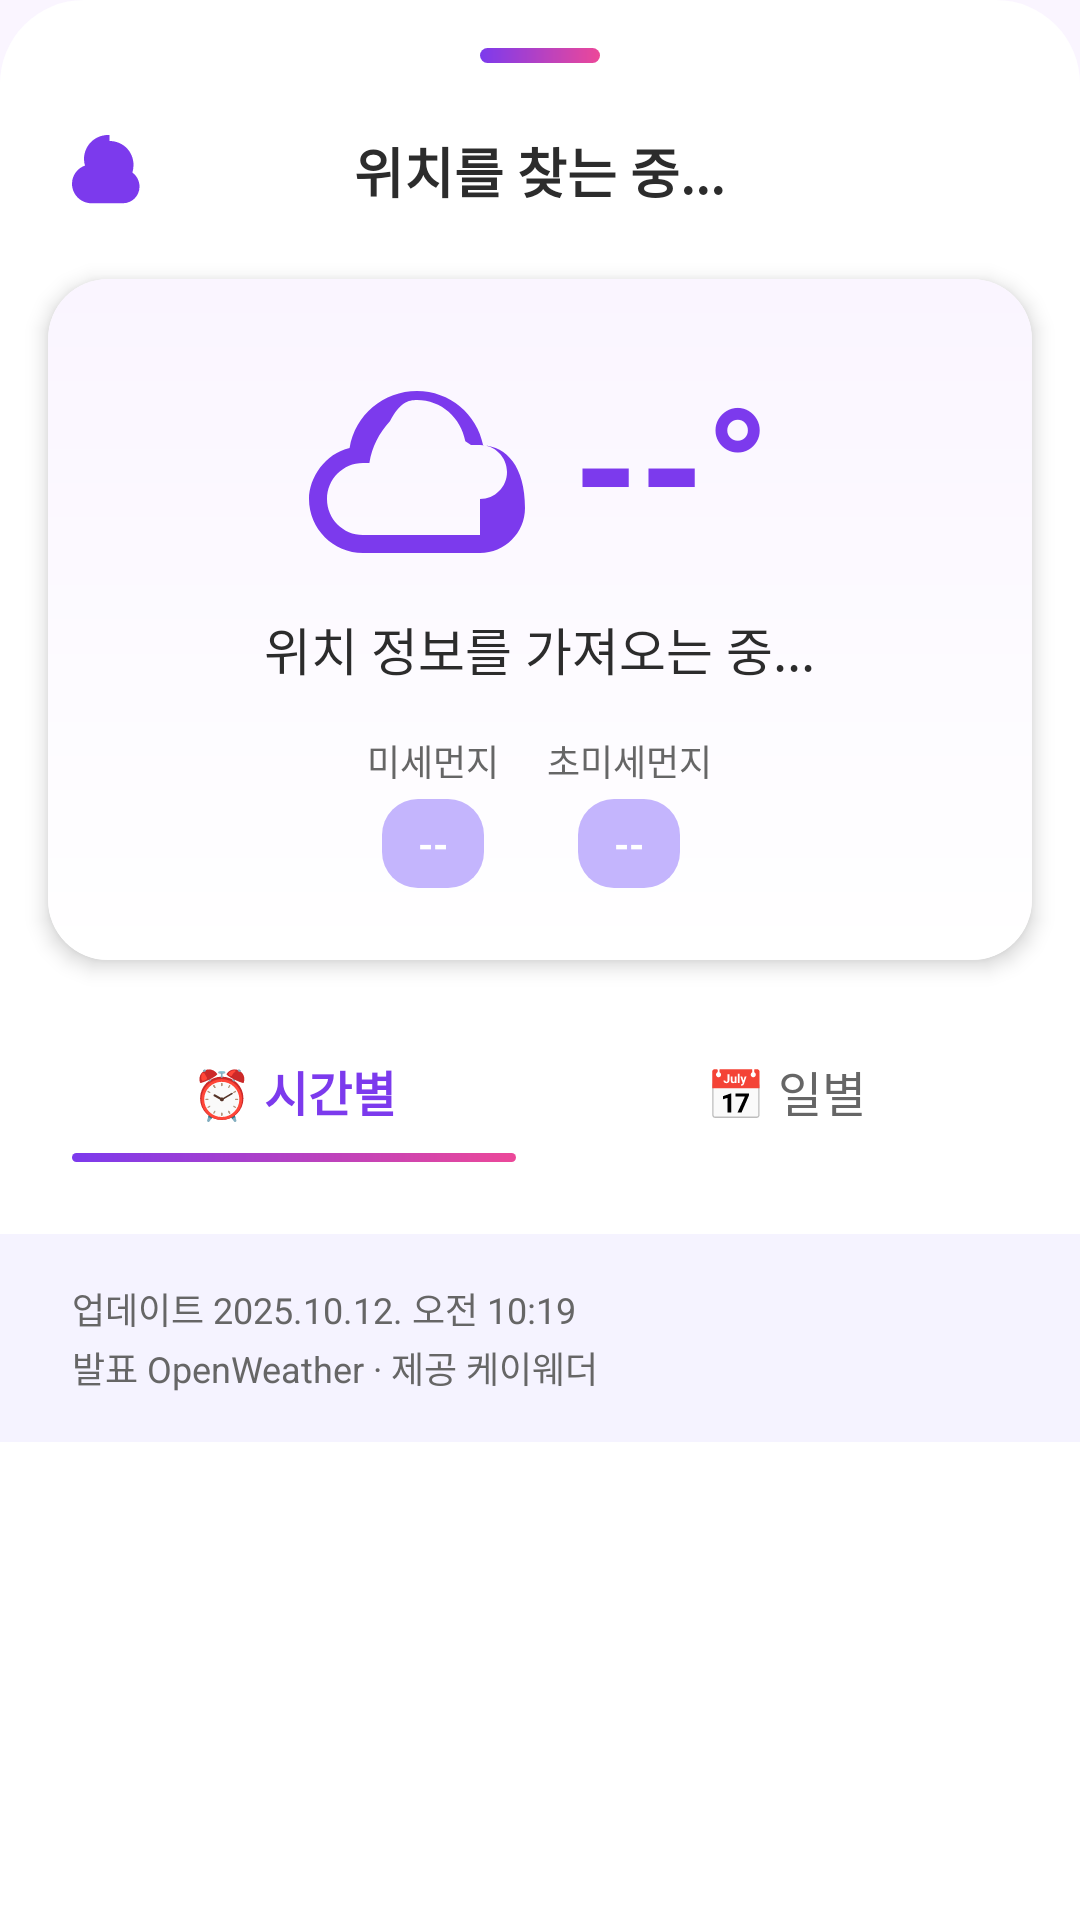

Icons on this 1080×1920 Android screen, each with its box as (x1, y1, x2, y2):
Current Weather Icon: (309, 391, 525, 553)
weather: (72, 135, 140, 204)
